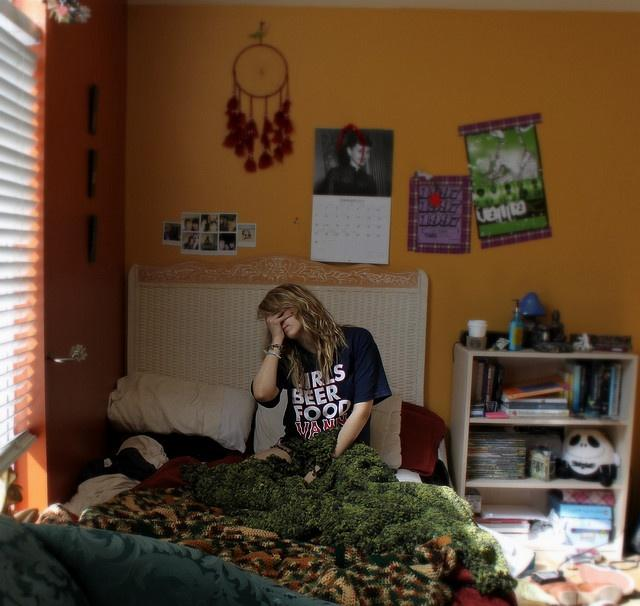Rak: (460, 352, 637, 567)
